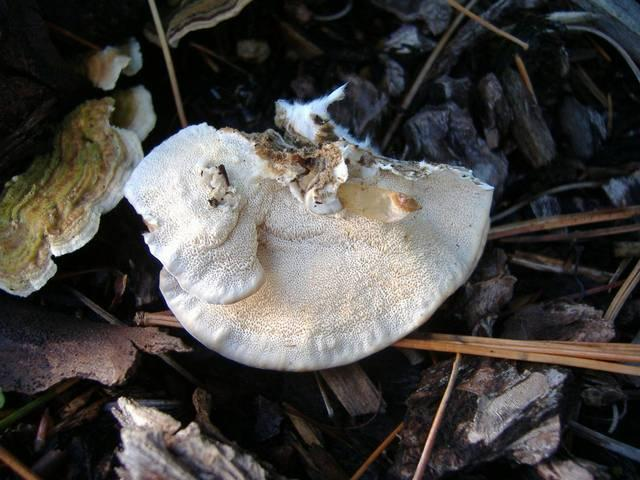poisonous_mushroom: (121, 81, 496, 376)
